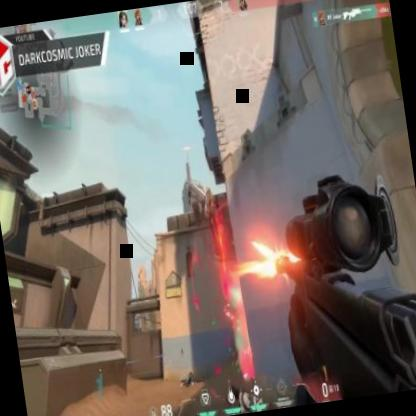enemy: (200, 185, 222, 241)
enemy_head: (204, 186, 211, 196)
